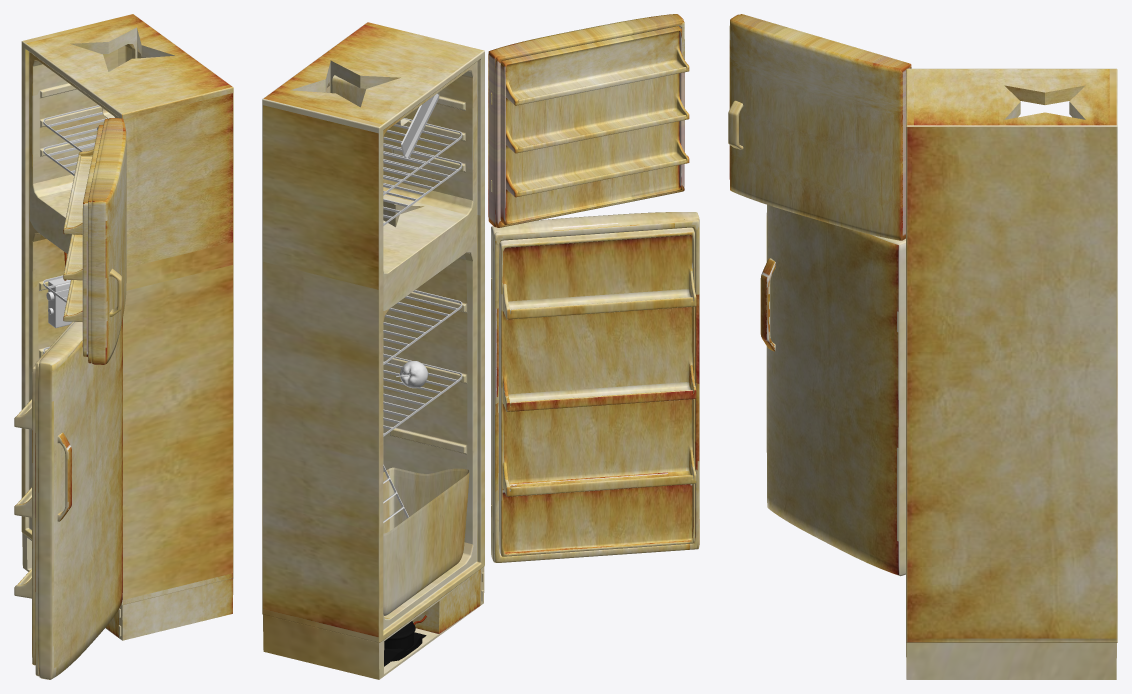
The model's file is FRIDGE.fbx.
3 renders of one model, left to right at view 1: azimuth 30°, elevation 25°; view 2: azimuth 150°, elevation 25°; view 3: azimuth 270°, elevation 25°, orthographic. The views are drawn at different scales.
Parts seen in each view (by area): view 1: Plane.018, Cube.043, Plane.013, Plane.019; view 2: Plane.018, Plane.004, Plane.008, Plane.019, Plane.011, Plane.013, engine, Plane.012, Plane.010; view 3: Plane.018.
Part boxes in pixels (left/top/right/bottom): Plane.018: left=14, top=14, right=233, bottom=679; Cube.043: left=46, top=277, right=72, bottom=327; Plane.013: left=43, top=105, right=107, bottom=151; Plane.019: left=43, top=134, right=96, bottom=175; Plane.018: left=262, top=14, right=699, bottom=679; Plane.004: left=383, top=467, right=469, bottom=615; Plane.008: left=383, top=290, right=462, bottom=364; Plane.019: left=383, top=143, right=462, bottom=225; Plane.011: left=383, top=356, right=462, bottom=436; Plane.013: left=383, top=118, right=462, bottom=195; engine: left=384, top=621, right=426, bottom=666; Plane.012: left=401, top=93, right=439, bottom=158; Plane.010: left=332, top=75, right=439, bottom=125; Plane.018: left=728, top=14, right=1117, bottom=679.
Size of the model in its own units: 13.25 by 25.03 by 15.94.
